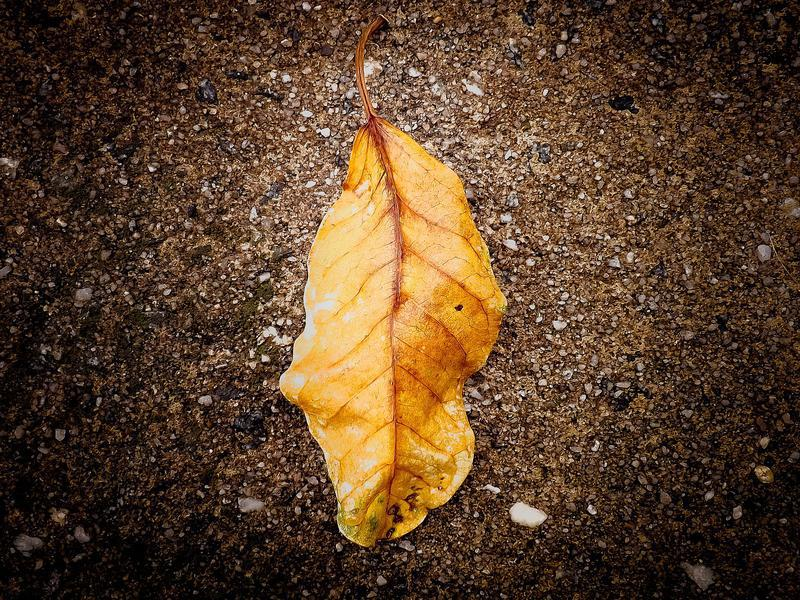leaf: (270, 13, 521, 555)
